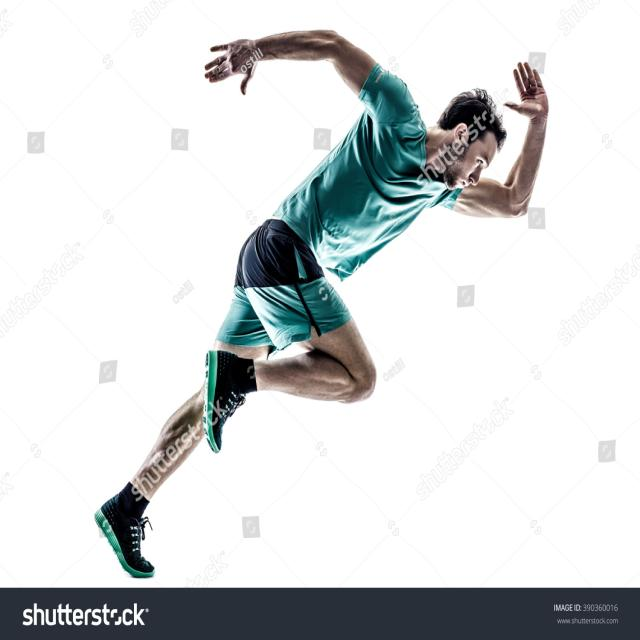running: (90, 27, 552, 585)
